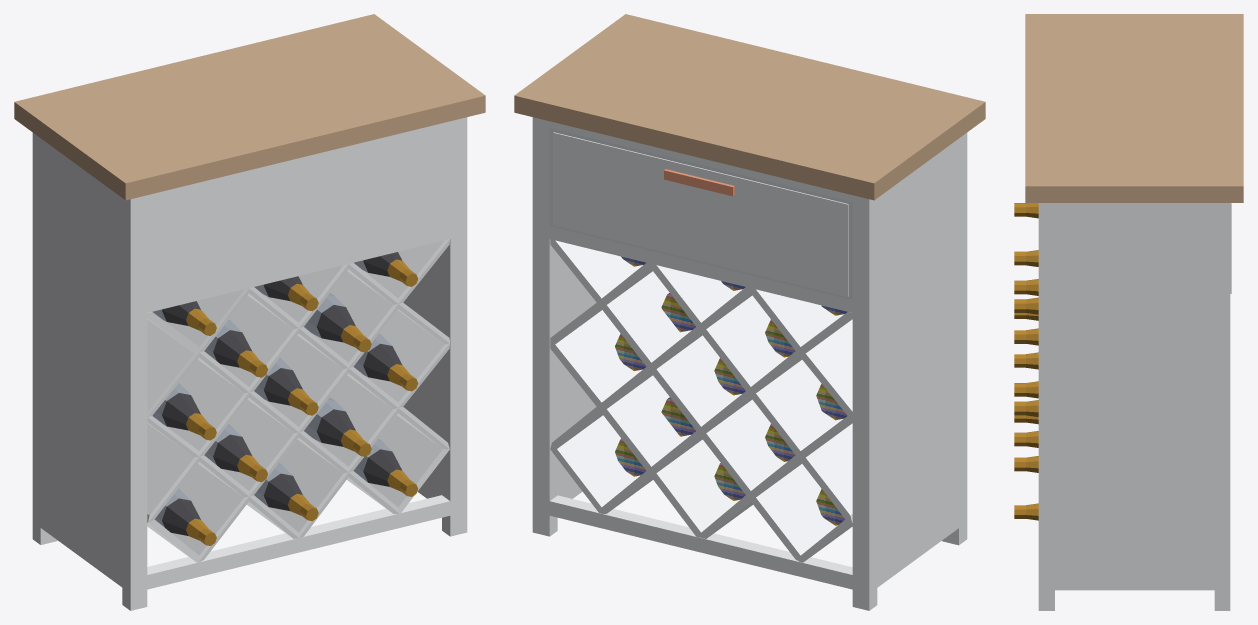
Rendered from Accesories_Wine_Shelf.glb.
3 views of the same model, side by side, from view 1: azimuth 30°, elevation 25°; view 2: azimuth 150°, elevation 25°; view 3: azimuth 270°, elevation 25° (orthographic). The views are drawn at different scales.
Visible parts, largest first — view 1: Accesories_Wine_Shelf; view 2: Accesories_Wine_Shelf; view 3: Accesories_Wine_Shelf.
Part boxes in pixels (bbox=[...]): Accesories_Wine_Shelf: bbox=[14, 14, 485, 610]; Accesories_Wine_Shelf: bbox=[514, 14, 985, 610]; Accesories_Wine_Shelf: bbox=[1014, 14, 1243, 610].
Size of the model in its own units: 0.7364 by 0.858 by 0.4149.
1 material, 1 textured.
